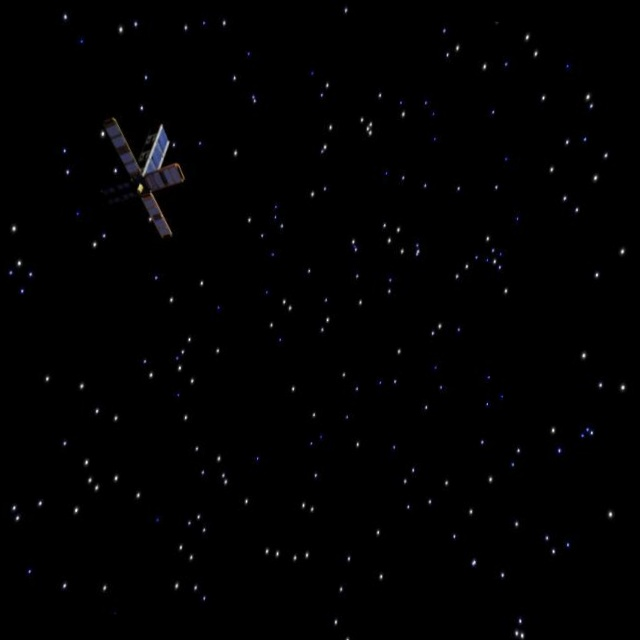satellite: (94, 105, 194, 246)
